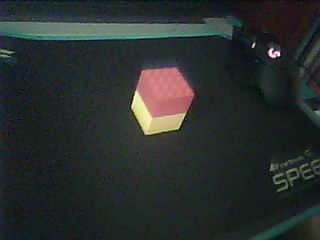lego: (131, 66, 194, 135)
